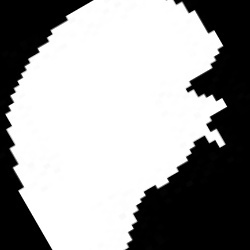spot: (7, 2, 226, 248)
